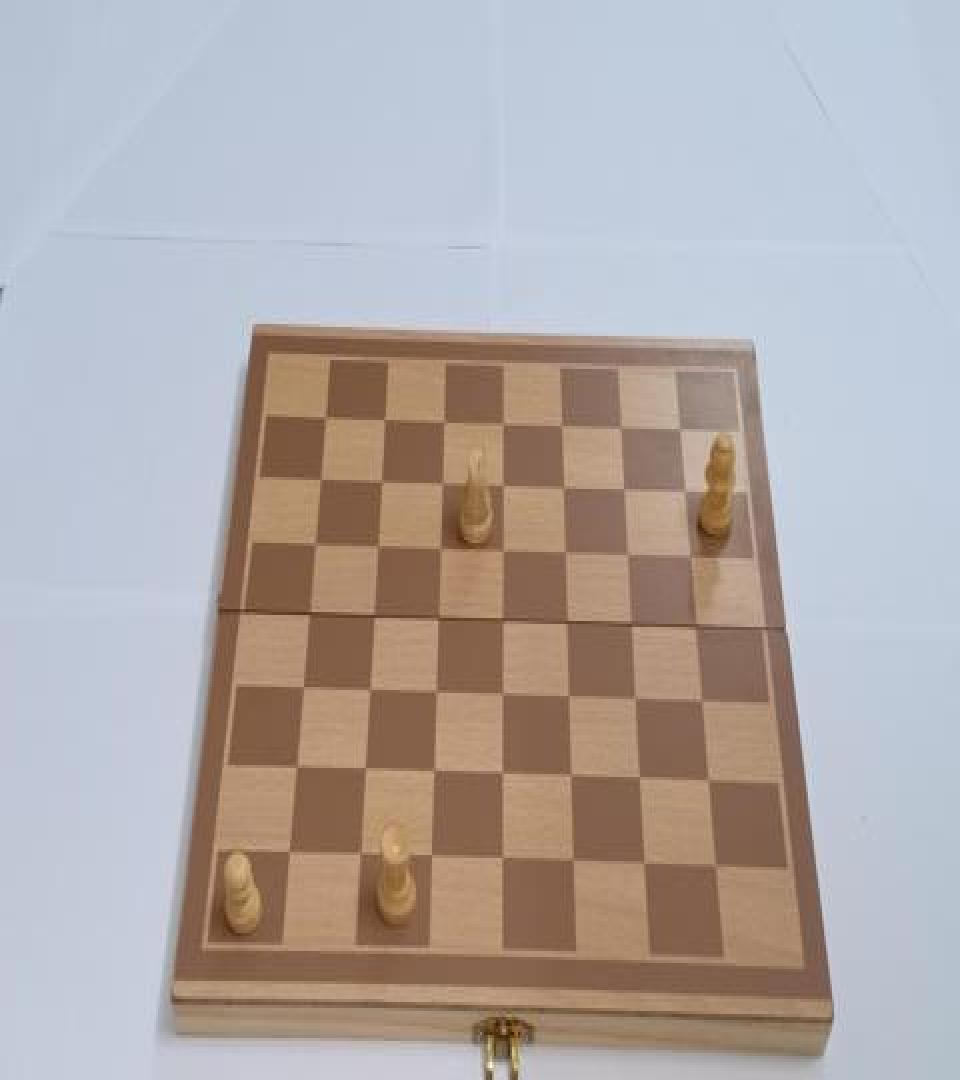xcorner: (309, 466, 327, 494), (374, 406, 392, 434), (424, 760, 442, 788), (493, 472, 511, 500), (552, 412, 570, 440), (314, 405, 332, 432), (303, 532, 321, 559), (291, 676, 309, 703), (285, 755, 303, 782), (278, 840, 296, 867), (370, 468, 388, 495), (367, 534, 385, 561), (363, 604, 381, 631), (359, 678, 377, 705), (350, 843, 368, 870), (433, 408, 451, 435), (431, 471, 449, 498), (430, 537, 448, 564), (428, 606, 446, 633), (426, 681, 444, 708), (421, 846, 439, 873), (493, 411, 511, 438), (493, 538, 511, 565), (493, 609, 511, 636), (493, 684, 511, 711), (493, 849, 511, 876), (558, 612, 576, 639), (561, 687, 579, 714), (563, 766, 581, 793), (566, 852, 584, 879), (612, 415, 630, 442), (616, 477, 634, 504), (620, 543, 638, 570), (628, 689, 646, 716), (638, 855, 656, 882), (672, 417, 690, 444), (677, 480, 695, 507), (683, 546, 701, 573), (689, 617, 707, 644), (703, 771, 721, 798), (710, 858, 728, 885), (298, 602, 316, 628), (354, 758, 372, 784), (493, 764, 511, 790), (554, 476, 572, 502), (556, 542, 574, 568), (624, 614, 642, 640), (633, 770, 651, 796), (696, 692, 714, 718)
